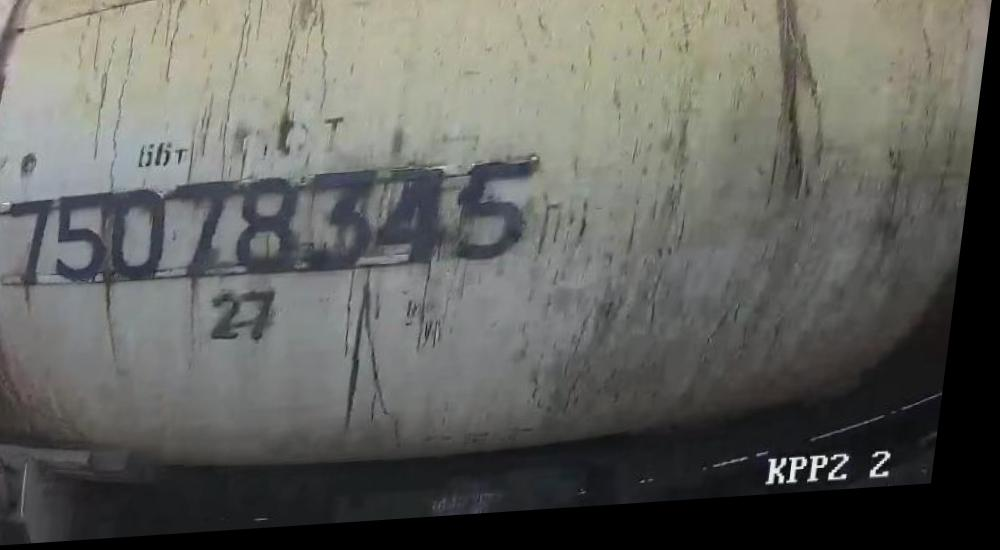Wagon-number: (0, 158, 550, 302)
